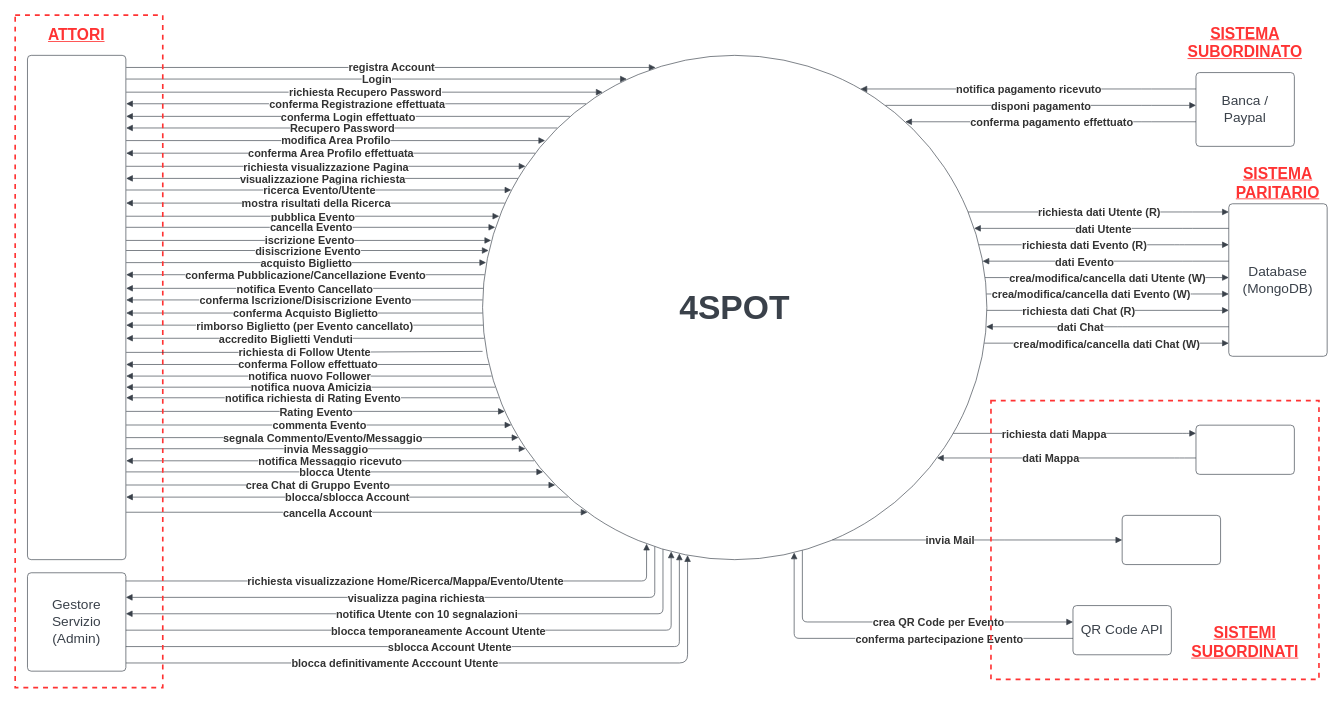
Image size: 1342x702. Some labels were removed from this diagram. The shapes that lost their labels are listed below. From the top down, each one's centre as x and y in pixels, then its label:
At (76,307): "Utente".
At (1244,449): "Google Maps API".
At (1170,539): "Google Gmail API".
